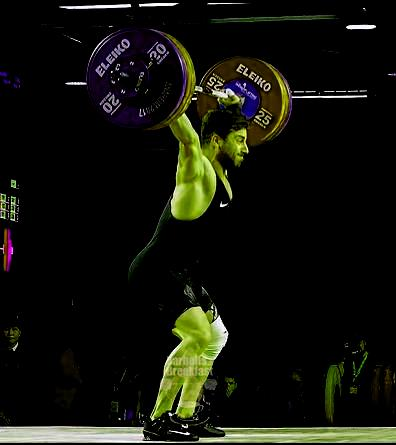Barbell: (108, 68, 125, 85)
